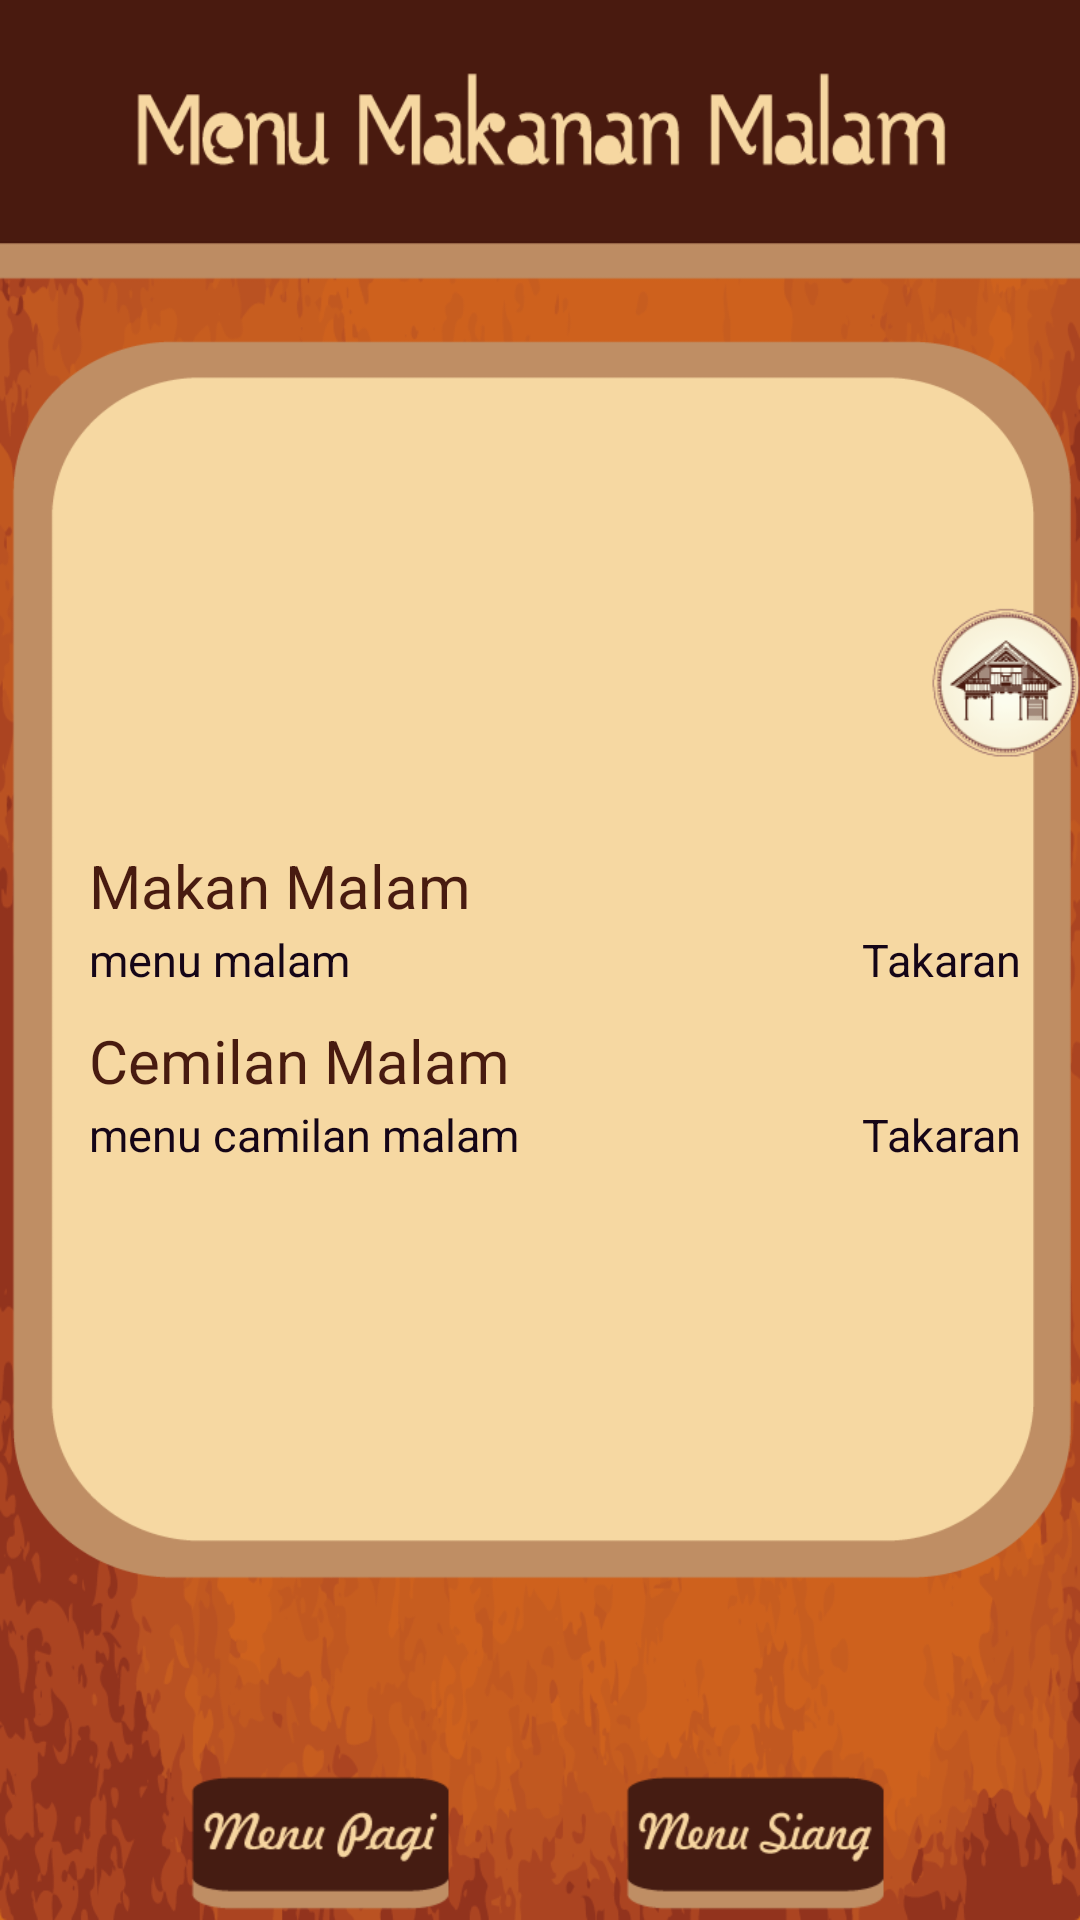

Named icons in this screenshot (1080w x 1920h) and their bounding boxes, rect(x1, y1, x2, y2):
homebutton: rect(937, 612, 1076, 753)
